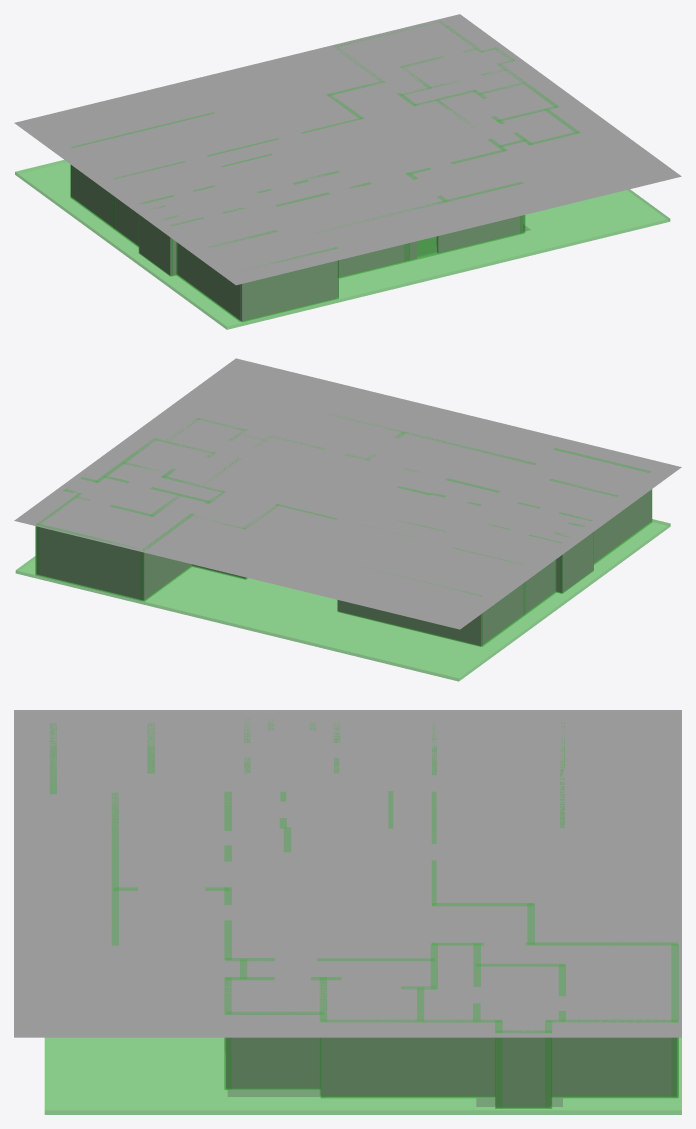
File: FloorPlans.fbx
3 renders of one model, top to bottom at view 1: azimuth 30°, elevation 25°; view 2: azimuth 150°, elevation 25°; view 3: azimuth 270°, elevation 25°, orthographic. The views are drawn at different scales.
Visible parts, largest first — view 1: Roof, pCube71, Walls, pCube42, pCube34, pCube57, pCube43, pCube61; view 2: Roof, pCube71, Walls, pCube6, pCube57, pCube58, pCube43, pCube5, pCube61; view 3: Roof, Walls, pCube71, pCube13, pCube7, pCube26, pCube11, pCube6, Hard_Floor, pCube34, pCube25, pCube12 (+1 smaller).
Boxes of the visible parts, bbox=[...] form: Roof: bbox=[14, 14, 681, 285]; pCube71: bbox=[15, 160, 670, 329]; Walls: bbox=[71, 165, 522, 321]; pCube42: bbox=[240, 247, 338, 322]; pCube34: bbox=[321, 182, 524, 278]; pCube57: bbox=[70, 164, 138, 247]; pCube43: bbox=[176, 242, 240, 321]; pCube61: bbox=[138, 215, 172, 276]; Roof: bbox=[14, 358, 681, 629]; pCube71: bbox=[15, 519, 670, 681]; Walls: bbox=[37, 490, 651, 646]; pCube6: bbox=[35, 523, 142, 600]; pCube57: bbox=[481, 559, 556, 646]; pCube58: bbox=[338, 566, 482, 646]; pCube43: bbox=[594, 489, 652, 564]; pCube5: bbox=[140, 513, 194, 601]; pCube61: bbox=[560, 532, 593, 593]; Roof: bbox=[14, 710, 681, 1037]; Walls: bbox=[226, 1037, 676, 1107]; pCube71: bbox=[44, 1037, 681, 1114]; pCube13: bbox=[320, 1020, 501, 1097]; pCube7: bbox=[547, 1020, 677, 1097]; pCube26: bbox=[226, 1012, 323, 1089]; pCube11: bbox=[495, 1030, 551, 1108]; pCube6: bbox=[671, 944, 678, 1097]; Hard_Floor: bbox=[227, 1089, 562, 1106]; pCube34: bbox=[112, 793, 118, 945]; pCube25: bbox=[224, 977, 231, 1089]; pCube12: bbox=[495, 1020, 502, 1107].
Size of the model in its own units: 2861 by 320 by 2466.
